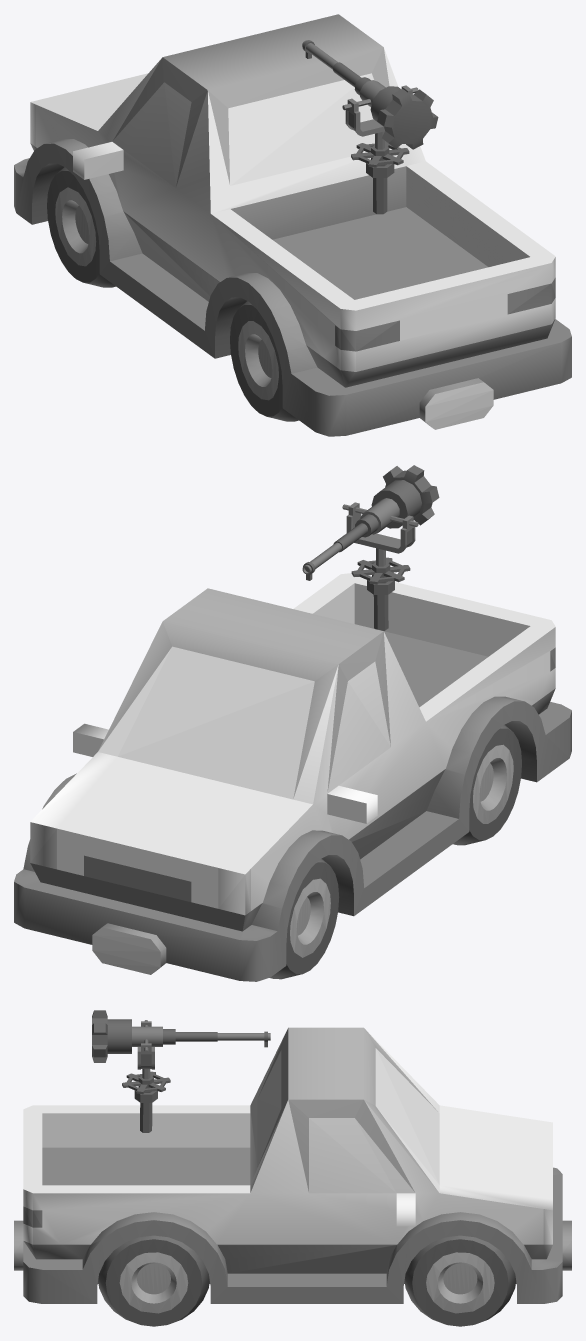
Rendered from yard_crane.glb.
3 views of the same model, one above another, from view 1: azimuth 30°, elevation 25°; view 2: azimuth 150°, elevation 25°; view 3: azimuth 270°, elevation 25° (orthographic). The views are drawn at different scales.
Parts seen in each view (by area): view 1: Body, Turret; view 2: Body, Turret; view 3: Body, Turret.
Boxes of the visible parts, box(x1,y1,x2,y2) form: Body: box(14, 14, 571, 436); Turret: box(302, 40, 438, 214); Body: box(14, 573, 571, 981); Turret: box(302, 465, 439, 630); Body: box(14, 1027, 571, 1326); Turret: box(92, 1010, 270, 1132).
Bounding box in the file's own units: 3.05 × 3.24 × 6.
Materials: 2 (1 with a texture image).
